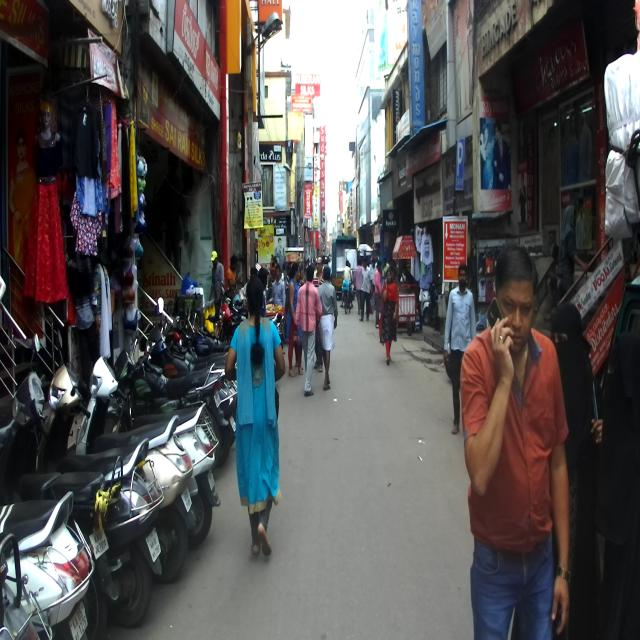motorcycle ahead at: (0, 480, 91, 640)
person ahead at: (460, 241, 568, 640), (228, 273, 291, 560)
